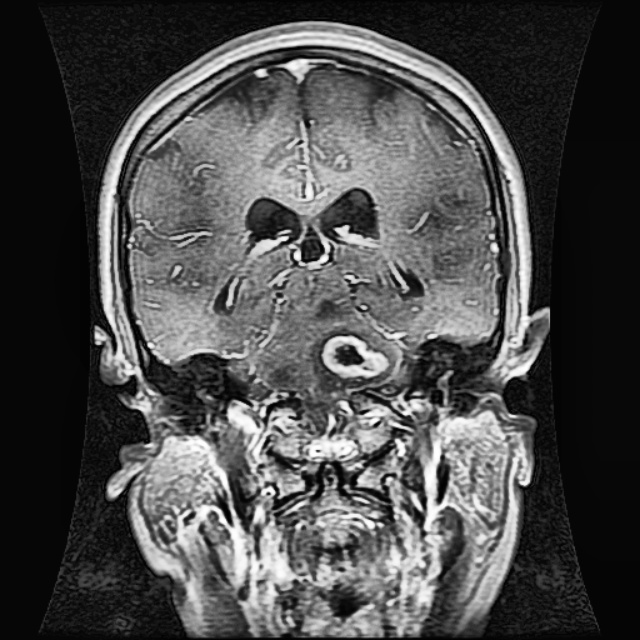Meningioma: (310, 329, 397, 387)
